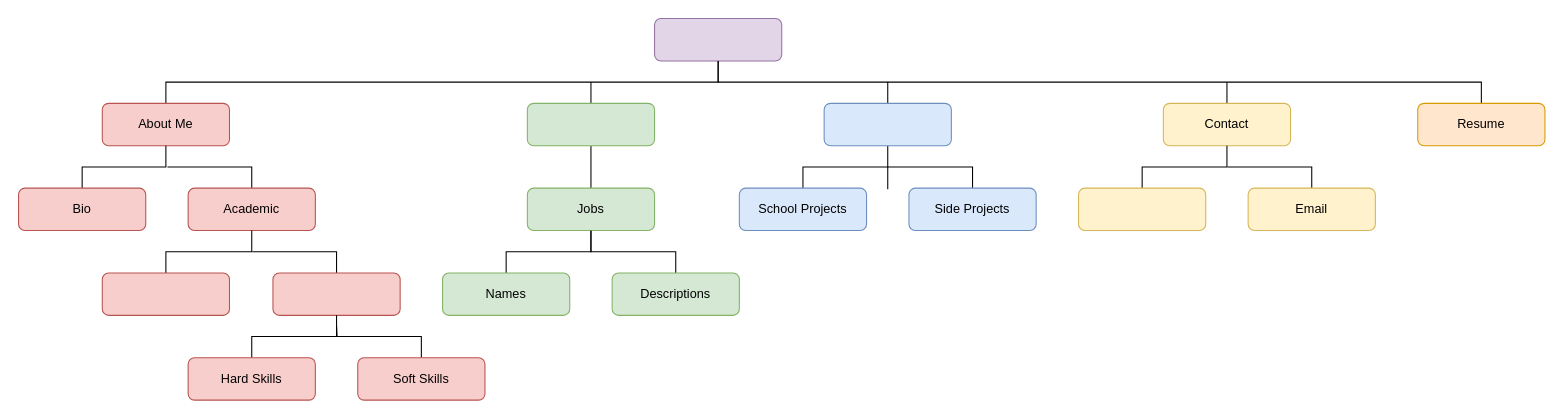
This 1563x419 diagram has some shape labels left out. The shapes that lost their labels are listed below. From the top down, each one's centre as x and y in pixels, then its label:
At [717,39]: "Home".
At [590,124]: "Experience".
At [887,124]: "Projects".
At [1141,209]: "Social Media".
At [165,293]: "Coursework".
At [336,293]: "Skills".
